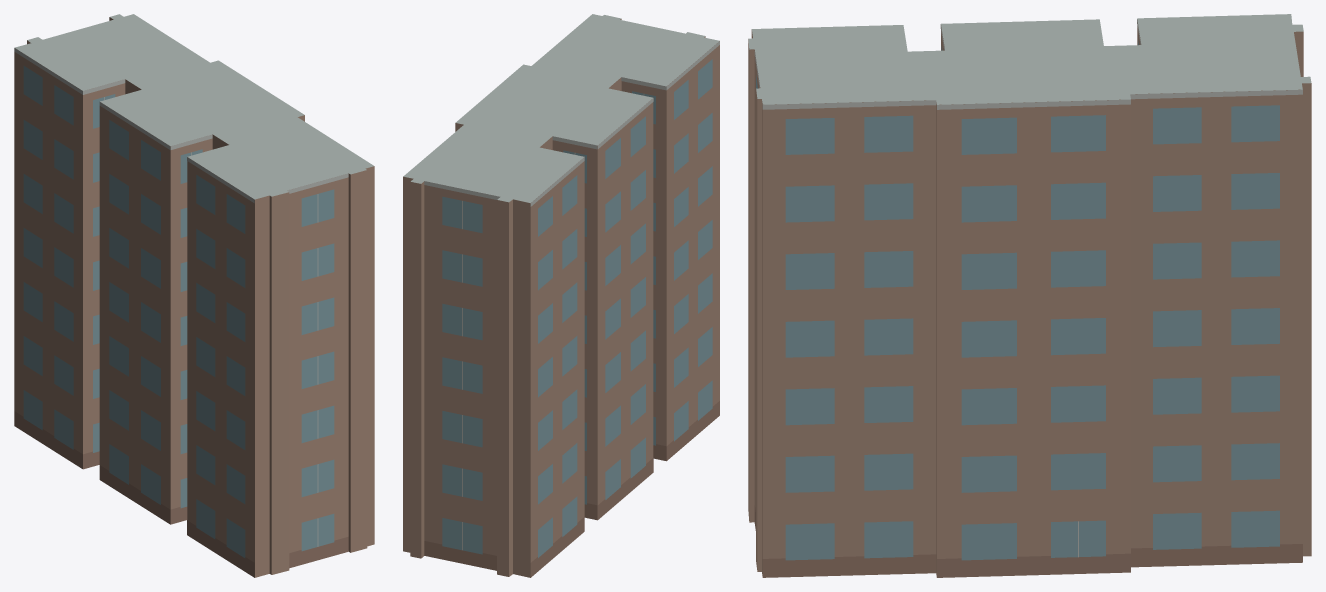
Rendered from survey-upis-32757158.glb.
3 views of the same model, side by side, from view 1: azimuth 30°, elevation 25°; view 2: azimuth 150°, elevation 25°; view 3: azimuth 270°, elevation 25° (orthographic). The views are drawn at different scales.
Visible parts, largest first — view 1: survey-upis-32757158.tmp; view 2: survey-upis-32757158.tmp; view 3: survey-upis-32757158.tmp.
Boxes of the visible parts, box(x1,y1,x2,y2) form: survey-upis-32757158.tmp: box(14, 14, 374, 577); survey-upis-32757158.tmp: box(403, 14, 719, 577); survey-upis-32757158.tmp: box(748, 14, 1311, 577).
Size of the model in its own units: 9.48 by 23 by 24.81.
